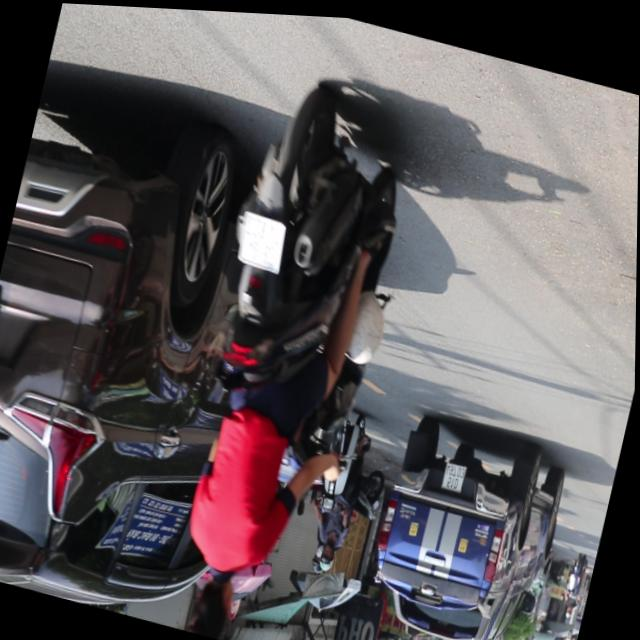licenseplate: (142, 59, 437, 640)
motorcyclist: (183, 559, 244, 639)
nohelmet: (233, 209, 288, 269)
